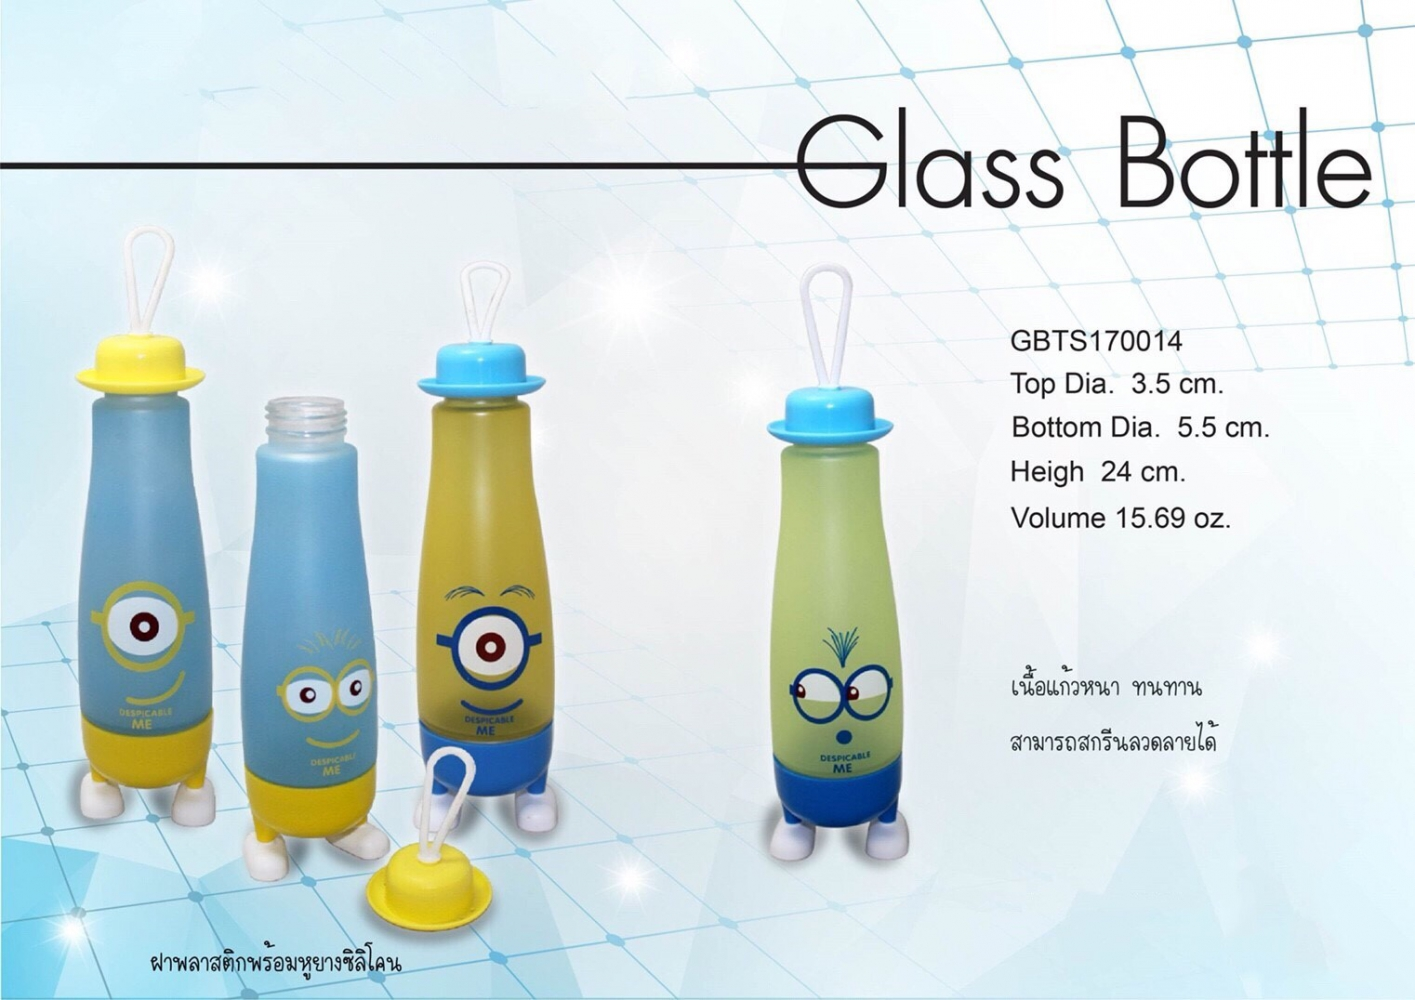glass_bottleww: (366, 196, 618, 991), (704, 203, 955, 932), (209, 246, 428, 983), (31, 195, 237, 870)
